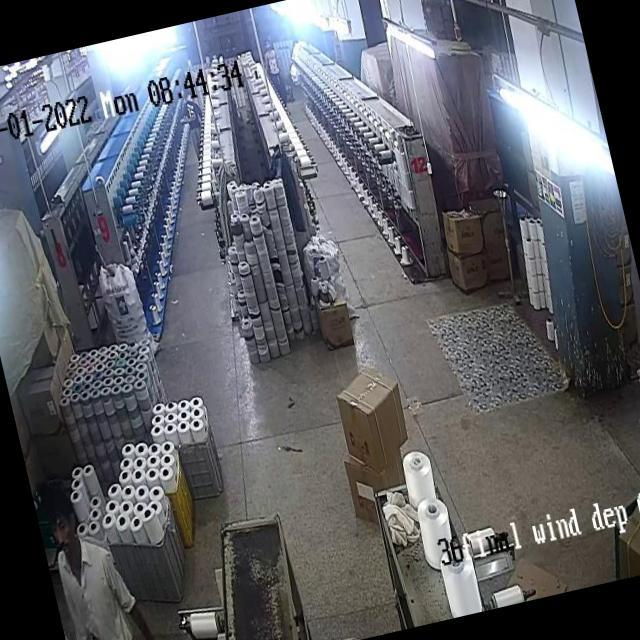person: (45, 476, 161, 640), (262, 36, 290, 98), (180, 90, 207, 144)
